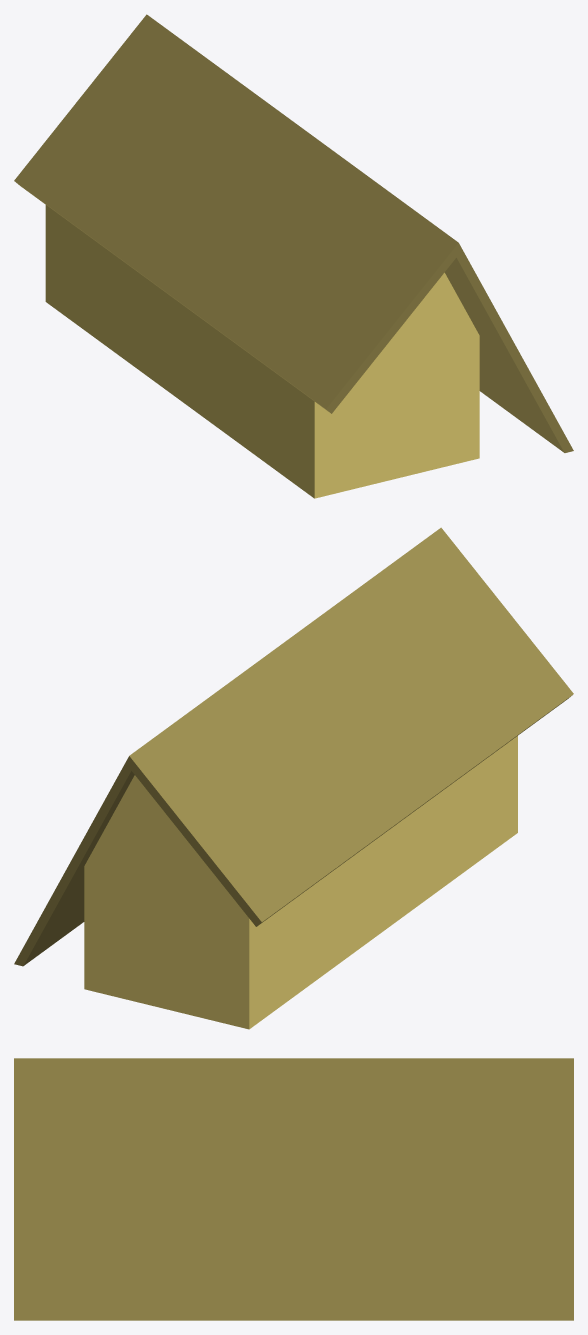
The model's file is result.glb.
The picture shows the model from 3 angles, top to bottom: view 1: azimuth 30°, elevation 25°; view 2: azimuth 150°, elevation 25°; view 3: azimuth 270°, elevation 25°; orthographic projection. The views are drawn at different scales.
Parts seen in each view (by area): view 1: 35f67888-c31c-4f19-aa8e-54b0a622eb98__undefined (×2), 83181095-a80e-455f-b7a5-f79a638e200f__undefined; view 2: 35f67888-c31c-4f19-aa8e-54b0a622eb98__undefined (×2), 83181095-a80e-455f-b7a5-f79a638e200f__undefined; view 3: 35f67888-c31c-4f19-aa8e-54b0a622eb98__undefined.
Boxes of the visible parts, x1,y1,x2,y2 form: 35f67888-c31c-4f19-aa8e-54b0a622eb98__undefined (×2): (14, 14, 573, 452); 83181095-a80e-455f-b7a5-f79a638e200f__undefined: (45, 205, 479, 498); 35f67888-c31c-4f19-aa8e-54b0a622eb98__undefined (×2): (14, 527, 573, 966); 83181095-a80e-455f-b7a5-f79a638e200f__undefined: (84, 736, 517, 1029); 35f67888-c31c-4f19-aa8e-54b0a622eb98__undefined: (14, 1058, 573, 1320).
Bounding box in the file's own units: 753 × 736 × 1641.
